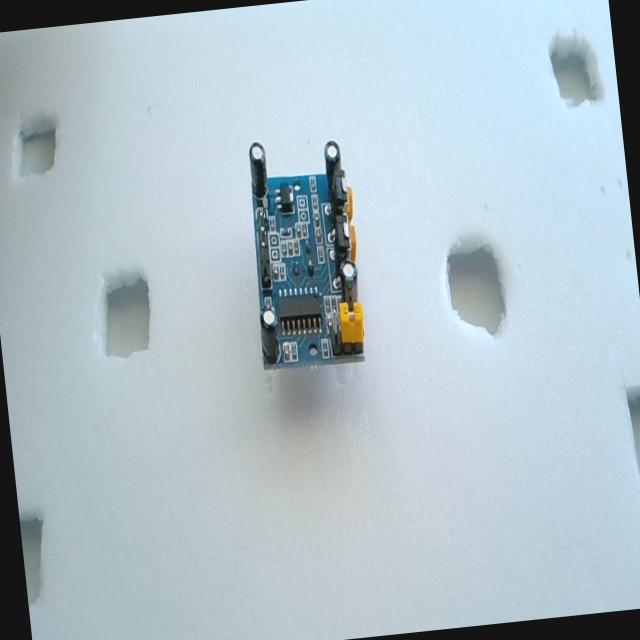Electrolytic capacitor: (247, 140, 270, 200), (258, 307, 282, 363), (322, 138, 345, 194), (338, 258, 360, 304)
IC: (275, 292, 324, 336)
pinheader: (243, 144, 280, 292)
